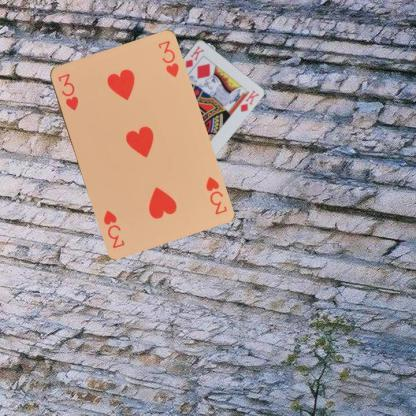3h: (55, 70, 80, 112), (203, 174, 228, 216)
Kd: (183, 43, 205, 70)
